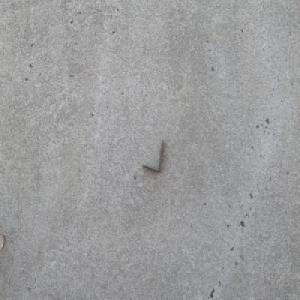MetalPart: (142, 138, 164, 173)
